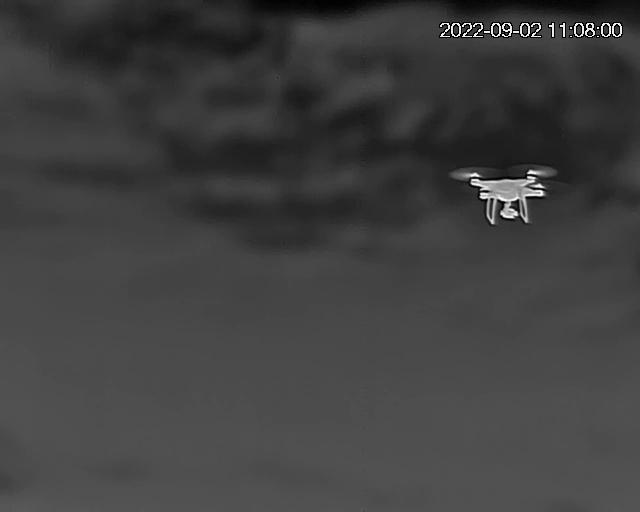DJI-Phantom: (452, 167, 561, 224)
